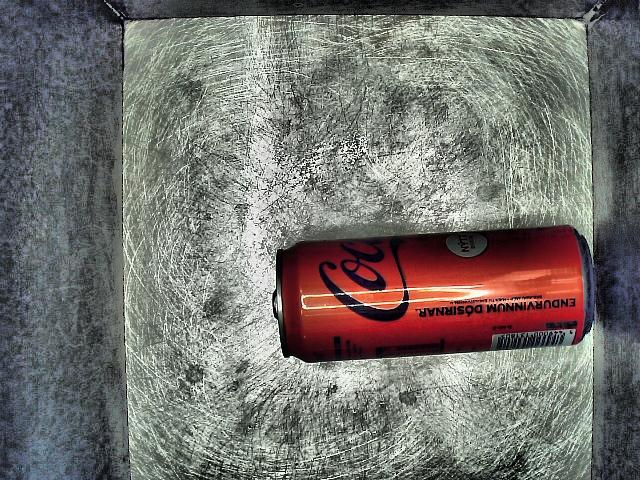Bottles: (240, 216, 610, 383)
